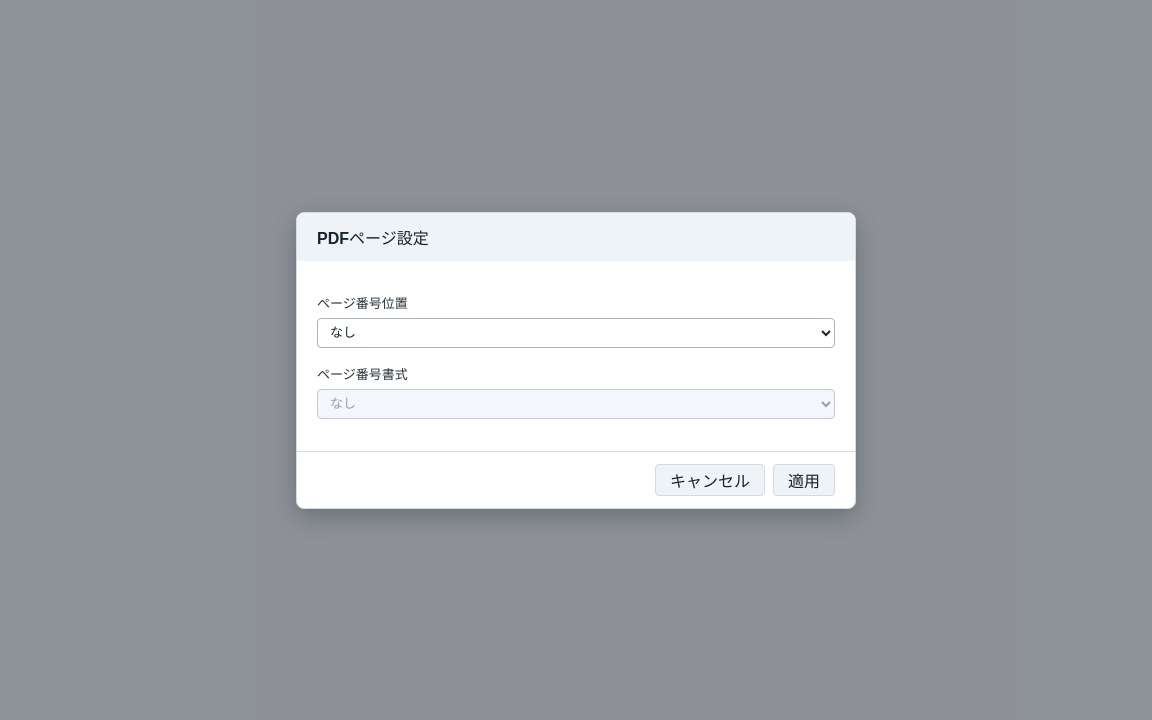
Scenario: PdfPageNumberSettingsDialog › enables format select and defaults to dash when position changes to top-left
Select "左上" in the dropdown labelled "ページ番号位置" at x=576, y=332, box 317,318 -> 835,348
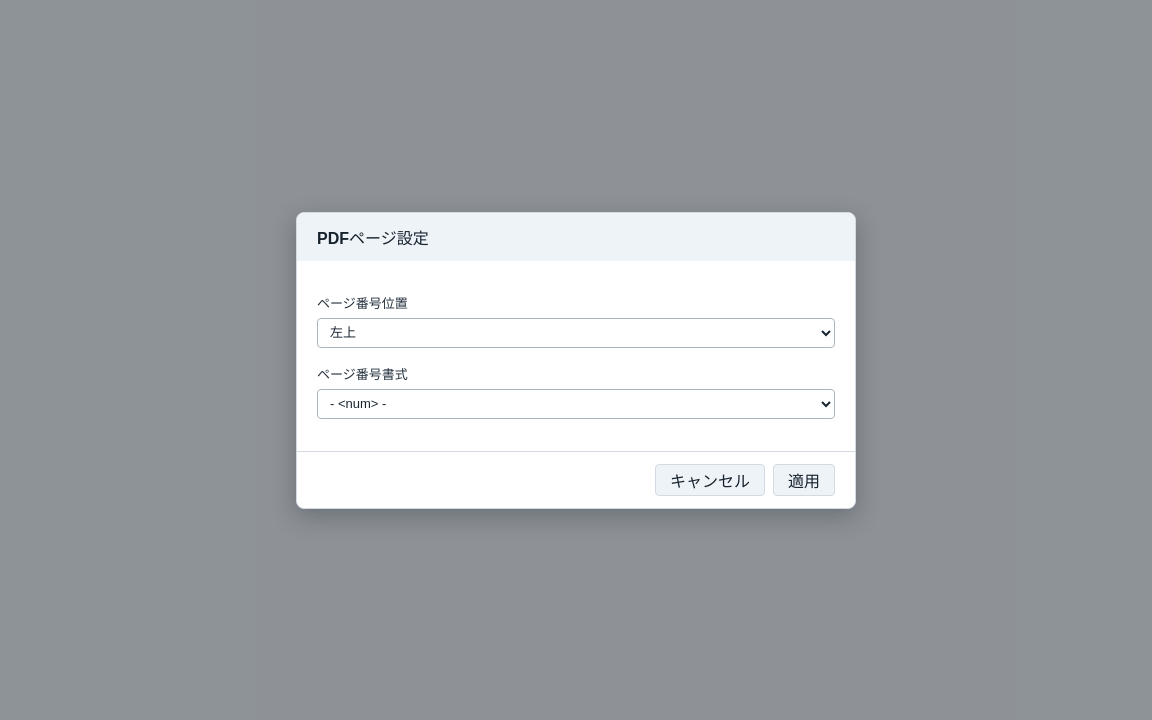
expect the dropdown labelled "ページ番号書式" is enabled: met, box 317,388 -> 835,418
expect the dropdown labelled "ページ番号書式" shows "- <num> -": met, box 317,388 -> 835,418
